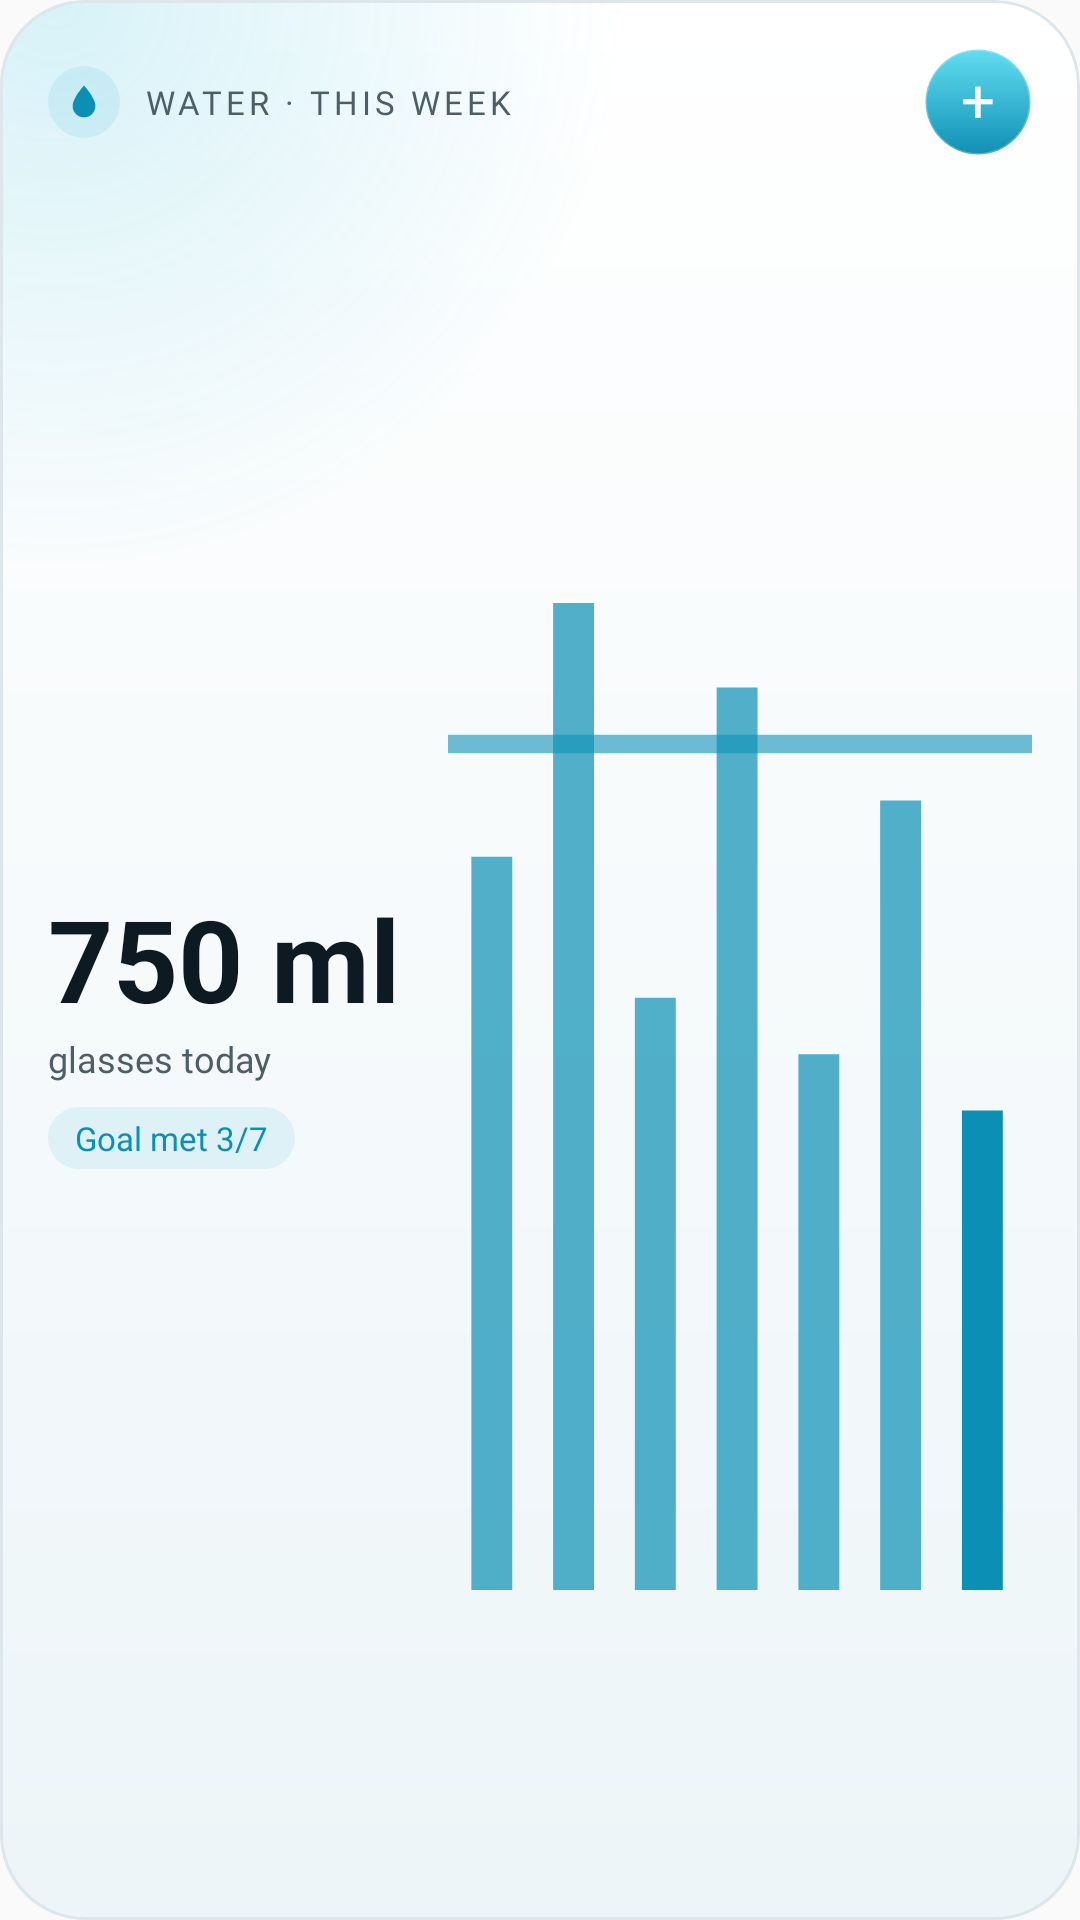

Icons on this 1080x1920 Android screen, each with the point to tap as [x,y]:
widget drop: [84,101]
